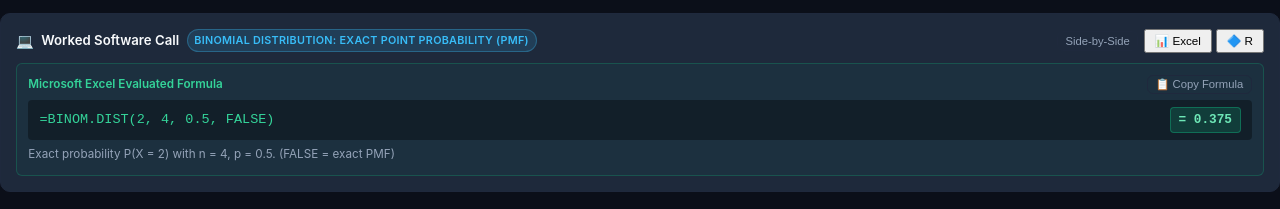
Scenario: WorkedSoftwareCallBox › copies software syntax to clipboard on button click
The width and height of the screenshot is (1280, 209).
Click the button "📋 Copy Formula" at (1199, 85), box [1147,75,1252,94]
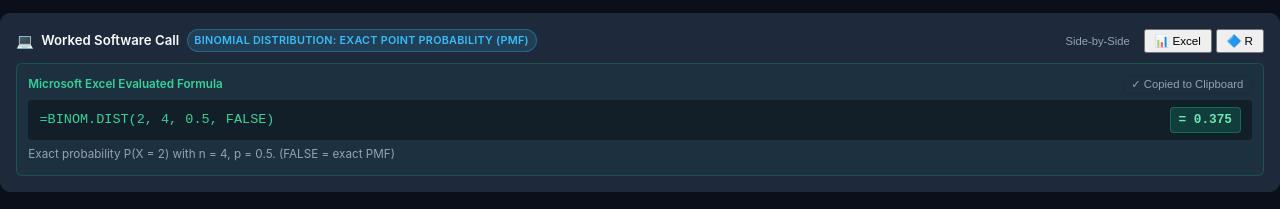
Expected: the button "✓ Copied to Clipboard" is shown, [1123,75,1252,94]
